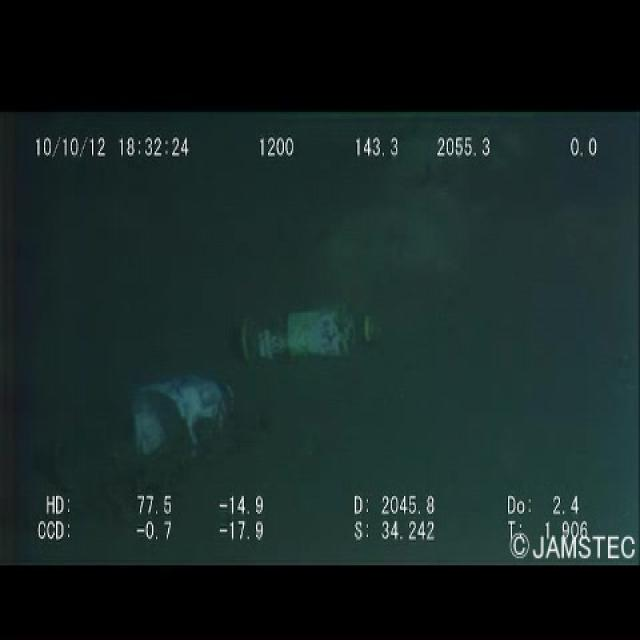plastic: (38, 343, 255, 491), (224, 292, 388, 374)
